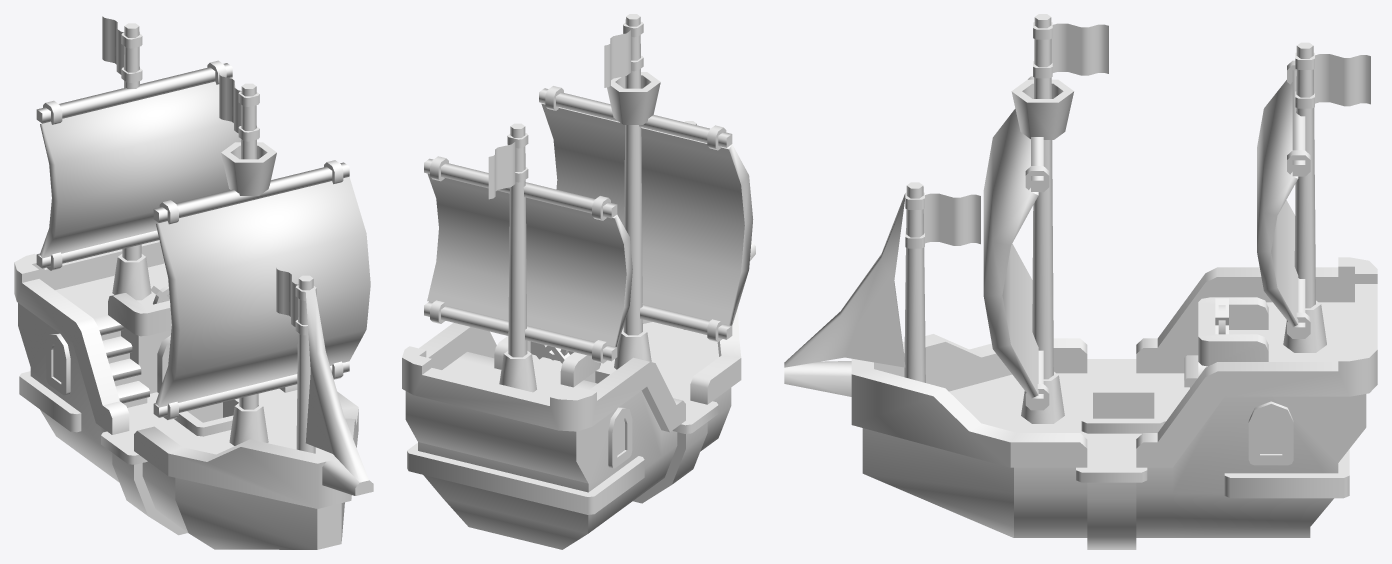
Rendered from ship-medium.glb.
3 views of the same model, side by side, from view 1: azimuth 30°, elevation 25°; view 2: azimuth 150°, elevation 25°; view 3: azimuth 270°, elevation 25° (orthographic). The views are drawn at different scales.
Parts seen in each view (by area): view 1: ship-medium, sail-a, sail-b, flag-b, flag-c, flag-a; view 2: ship-medium, sail-a, sail-b, flag-c, flag-b; view 3: ship-medium, sail-a, sail-b, flag-b, flag-a, flag-c.
Part boxes in pixels (x1,y1,x2,y2): ship-medium: (14, 23, 373, 549); sail-a: (153, 160, 370, 419); sail-b: (36, 60, 241, 270); flag-b: (219, 73, 259, 141); flag-c: (102, 16, 142, 82); flag-a: (276, 268, 316, 335); ship-medium: (402, 14, 755, 549); sail-a: (539, 86, 753, 341); sail-b: (424, 156, 632, 363); flag-c: (488, 133, 528, 199); flag-b: (604, 21, 643, 87); ship-medium: (784, 14, 1377, 549); sail-a: (983, 76, 1049, 410); sail-b: (1257, 60, 1310, 338); flag-b: (1033, 22, 1108, 78); flag-a: (905, 192, 980, 248); flag-c: (1295, 52, 1370, 108).
Size of the model in its own units: 4.8 by 9.96 by 10.6.
Materials: 1 (1 with a texture image).
